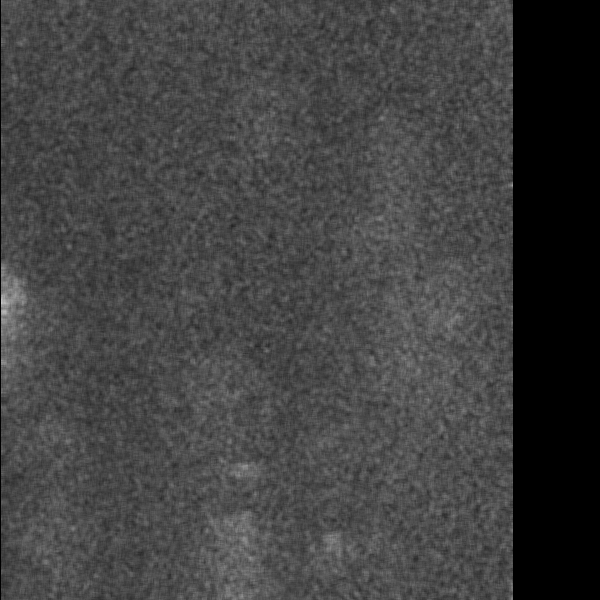spark: (310, 526, 343, 579), (228, 515, 253, 551), (213, 588, 249, 600)
